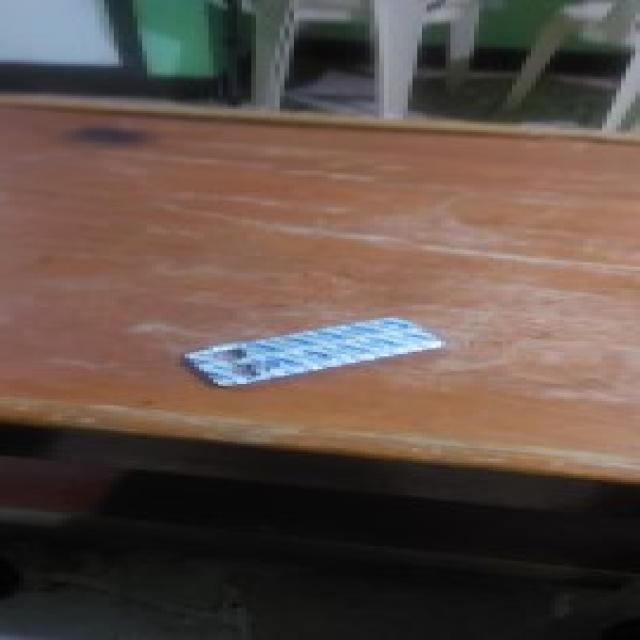Cacat: (187, 318, 448, 388)
Kemasan: (206, 347, 273, 378)
